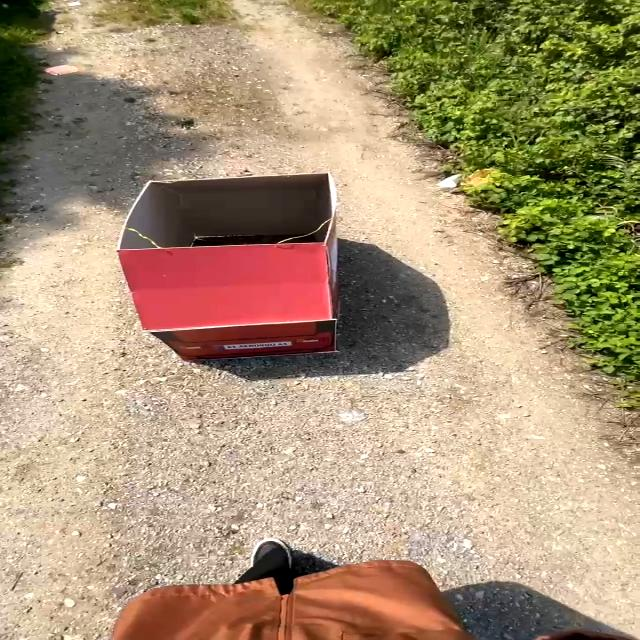red_car: (74, 158, 407, 382)
